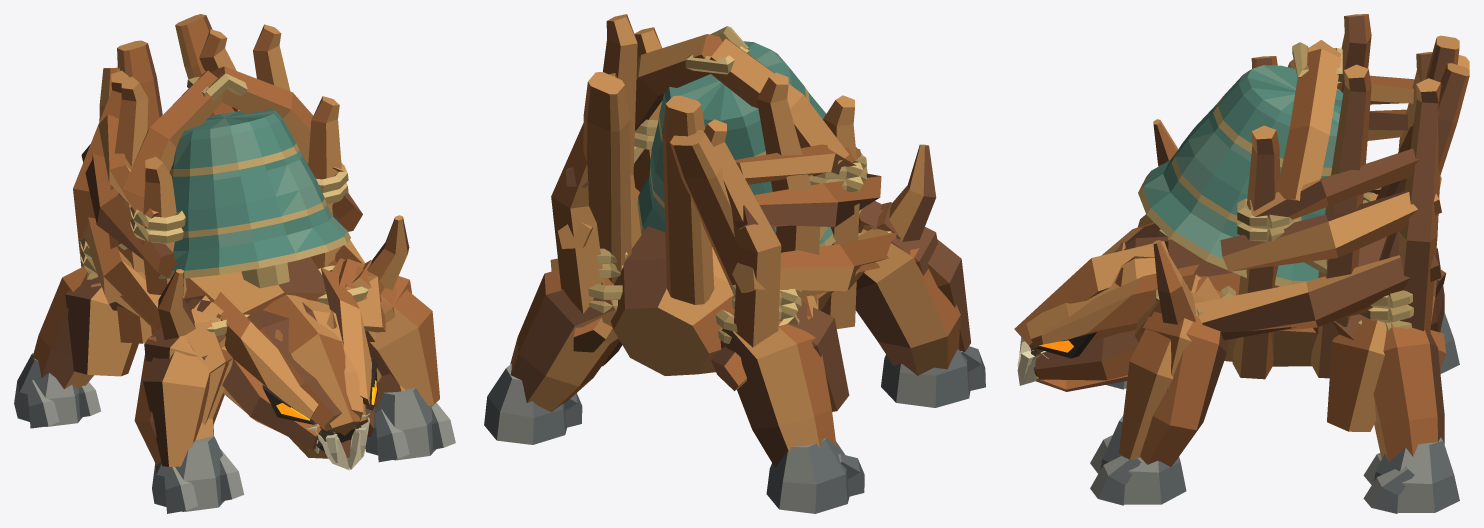
Rendered from bellback-woody-character-integration.glb.
The picture shows the model from 3 angles, left to right: view 1: azimuth 30°, elevation 25°; view 2: azimuth 150°, elevation 25°; view 3: azimuth 270°, elevation 25°; orthographic projection. The views are drawn at different scales.
Visible parts, largest first — view 1: Hollow cast bell, Left fore outer timber shield, Right fore outer timber shield, Left hind shoulder cap, Pointed central face keel, Shaped orbital brow timber, Arch left, Solid timber cranium, Barrel timber hull, Broken ship rib -1 1, Middle broken side strake -1, Lower broken side strake -1 (+34 smaller); view 2: Barrel timber hull, Left hind timber leg, Left fore timber leg, Right hind timber leg, Stern diagonal wreck plank 1, Hollow cast bell, Tall stern plank, Broken ship rib -1 2, Lower broken side strake -1, Broken ship rib 1 2, Stern diagonal wreck plank -1, Left hind stone foot (+20 smaller); view 3: Hollow cast bell, Lower broken side strake 1, Right hind timber leg, Middle broken side strake 1, Broken ship rib 1 2, Right fore timber leg, Arch right, Broken ship rib 1 1, Right hind shoulder cap, Broken ship rib 1 0, Right fore outer timber shield, Sweeping upper wreck rib 1 (+30 smaller).
Boxes of the visible parts, <box> form: Hollow cast bell: <box>158,109,350,278</box>; Left fore outer timber shield: <box>143,308,220,466</box>; Right fore outer timber shield: <box>351,260,439,406</box>; Left hind shoulder cap: <box>65,272,138,376</box>; Pointed central face keel: <box>263,294,360,435</box>; Shaped orbital brow timber: <box>213,292,318,419</box>; Arch left: <box>122,70,223,196</box>; Solid timber cranium: <box>247,299,363,430</box>; Barrel timber hull: <box>150,257,326,326</box>; Broken ship rib -1 1: <box>109,76,151,343</box>; Middle broken side strake -1: <box>81,144,176,277</box>; Lower broken side strake -1: <box>83,217,161,329</box>; Barrel timber hull: <box>610,226,833,375</box>; Left hind timber leg: <box>720,320,836,467</box>; Left fore timber leg: <box>855,229,960,375</box>; Right hind timber leg: <box>510,269,619,411</box>; Stern diagonal wreck plank 1: <box>583,72,631,283</box>; Hollow cast bell: <box>637,41,867,246</box>; Tall stern plank: <box>662,95,714,304</box>; Broken ship rib -1 2: <box>704,119,781,347</box>; Lower broken side strake -1: <box>732,229,897,292</box>; Broken ship rib 1 2: <box>551,73,616,313</box>; Stern diagonal wreck plank -1: <box>670,130,738,295</box>; Left hind stone foot: <box>766,437,849,513</box>; Hollow cast bell: <box>1138,65,1343,286</box>; Lower broken side strake 1: <box>1195,255,1441,332</box>; Right hind timber leg: <box>1373,322,1444,461</box>; Middle broken side strake 1: <box>1220,190,1441,271</box>; Broken ship rib 1 2: <box>1398,78,1441,334</box>; Right fore timber leg: <box>1140,290,1228,466</box>; Arch right: <box>1277,48,1341,200</box>; Broken ship rib 1 1: <box>1310,64,1371,378</box>; Right hind shoulder cap: <box>1327,316,1386,431</box>; Broken ship rib 1 0: <box>1232,125,1280,379</box>; Right fore outer timber shield: <box>1119,291,1205,459</box>; Sweeping upper wreck rib 1: <box>1249,148,1418,219</box>.
Size of the model in its own units: 3.43 by 3.72 by 3.85.
